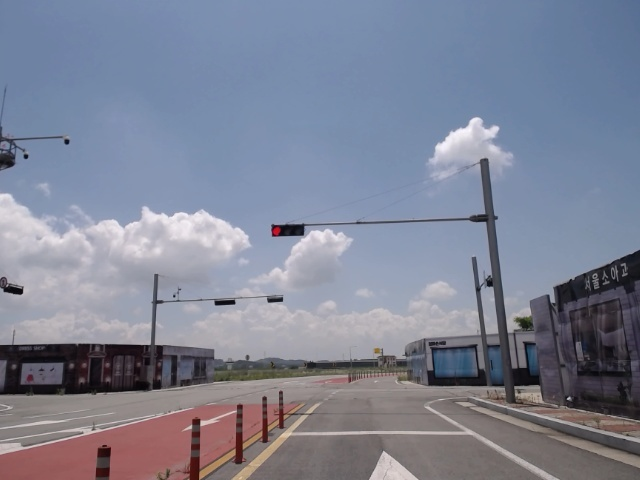red_3: (271, 224, 307, 238)
